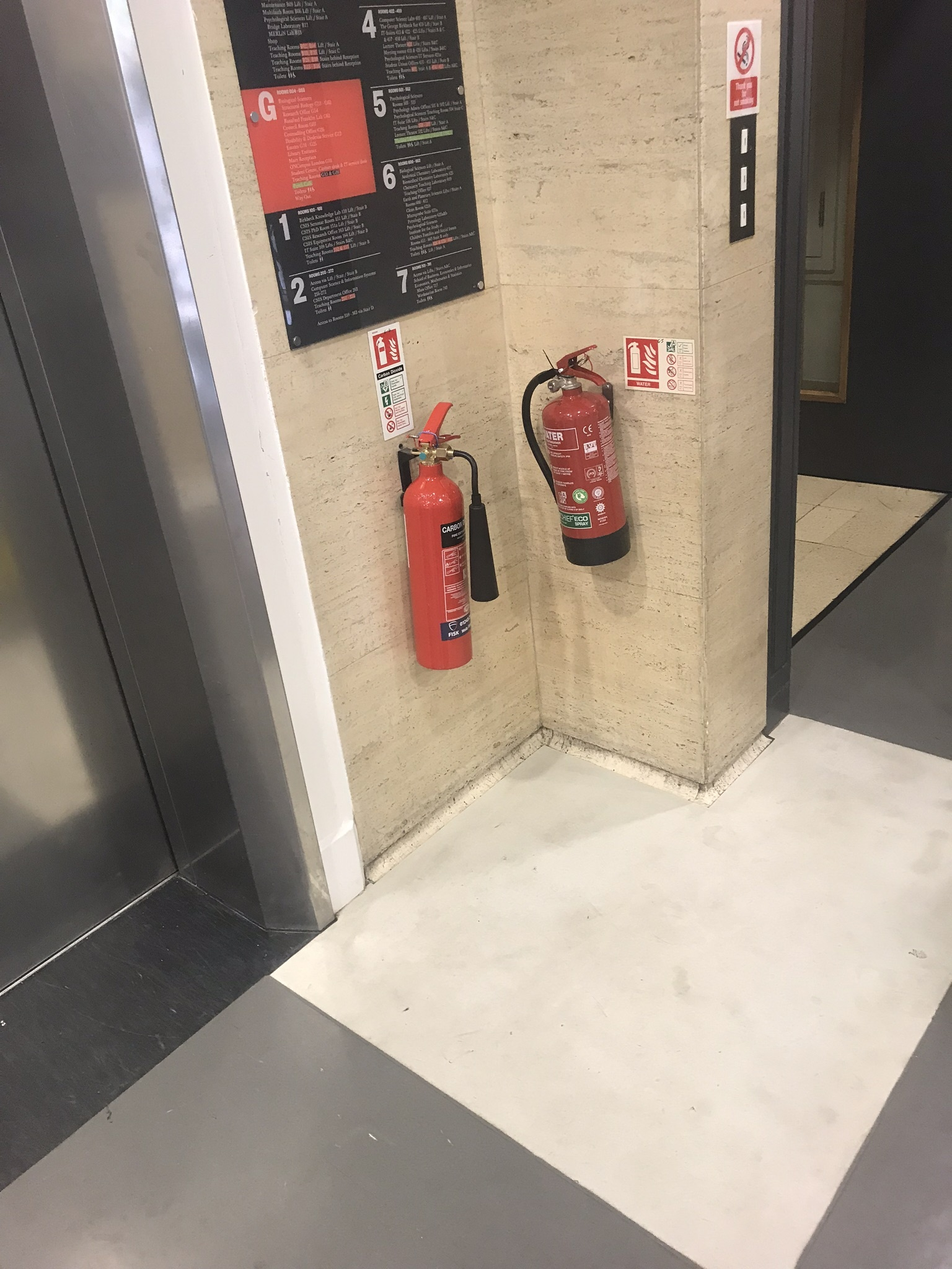fire_extinguisher: (396, 400, 499, 671), (521, 343, 631, 568)
